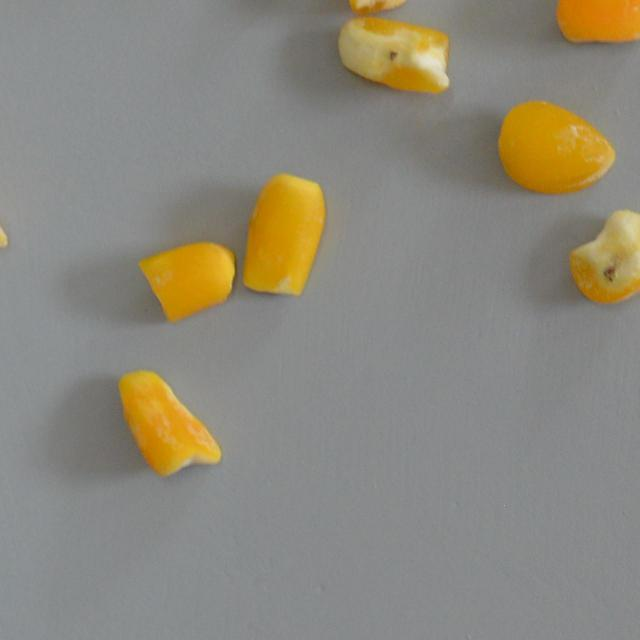dañado: (553, 0, 640, 50), (344, 0, 428, 18)
estandar: (236, 173, 340, 300), (136, 230, 239, 324)
pelicula: (116, 364, 220, 474), (495, 96, 616, 190)
punto_negro: (334, 13, 456, 102), (564, 206, 640, 306)
